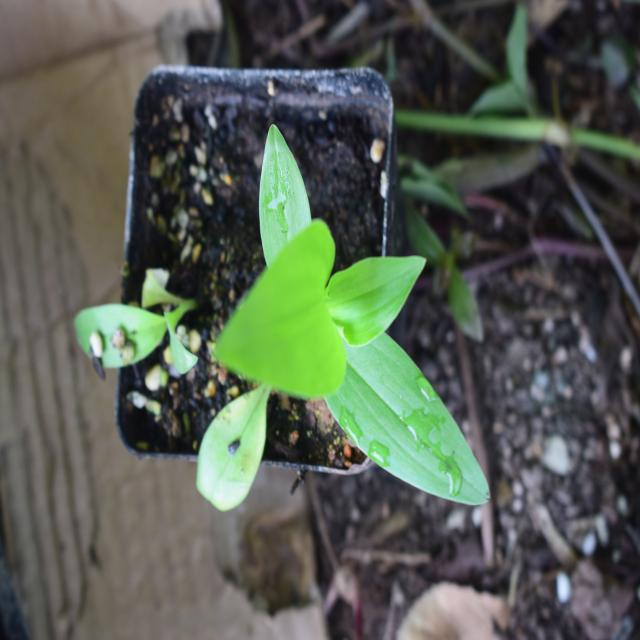Common Dayflower: (185, 126, 488, 520)
